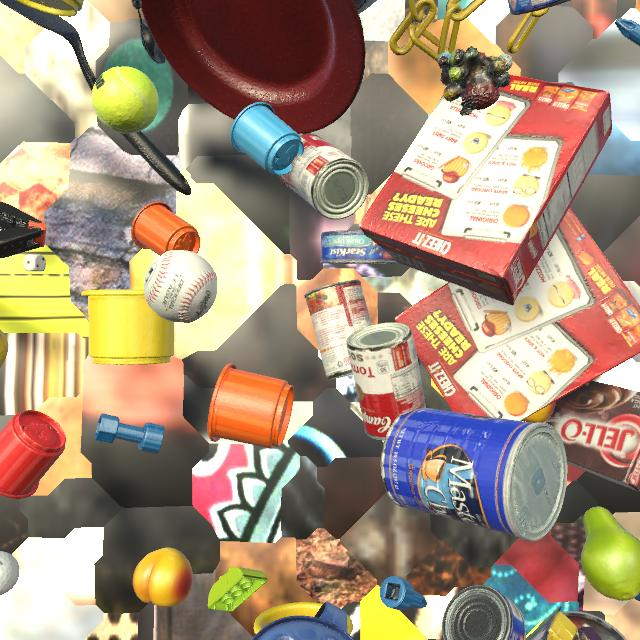ycb_002_master_chef_can: (381, 408, 567, 542)
ycb_003_cracker_box: (359, 75, 612, 305), (395, 207, 640, 421)
ycb_005_tomato_soup_can: (346, 322, 426, 440), (278, 133, 369, 220), (304, 280, 372, 380)
ycb_007_tuna_fish_can: (442, 585, 526, 640), (320, 230, 399, 264), (508, 0, 570, 15)
ycb_008_pudding_box: (546, 381, 640, 492)
ycb_014_lemon: (0, 329, 8, 368)
ycb_015_peach: (133, 548, 193, 607), (522, 402, 556, 423)
ycb_016_pear: (581, 507, 640, 601)
